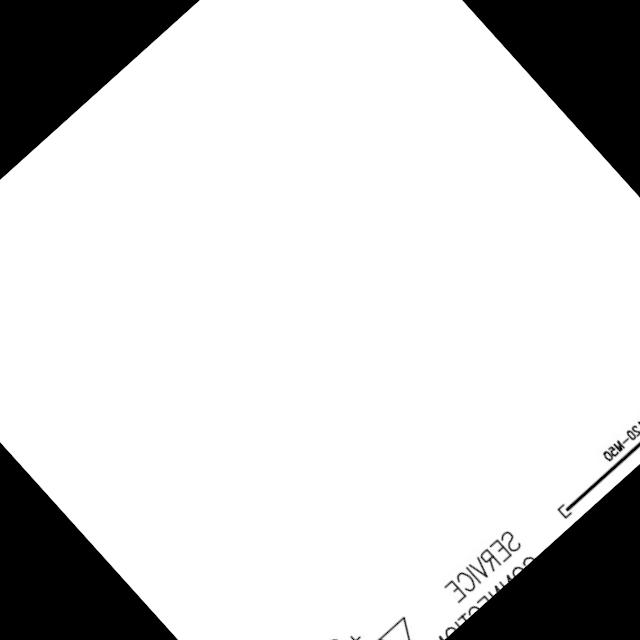EC: (548, 472, 602, 523)
